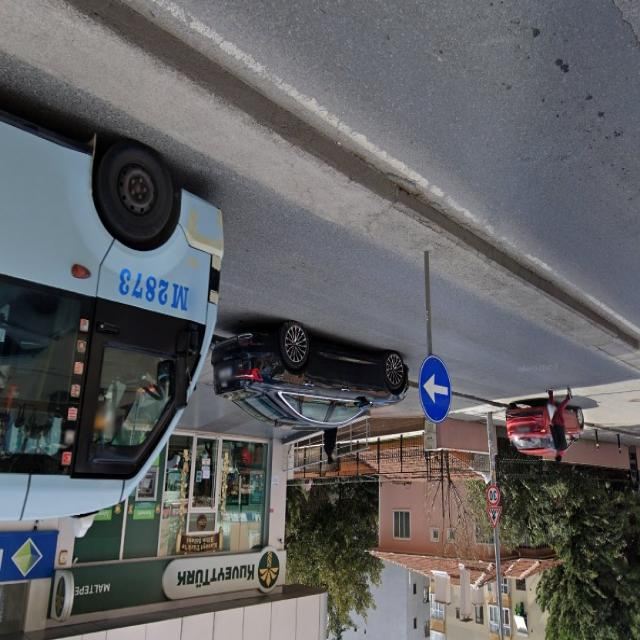Turn Left: (418, 353, 449, 421)
